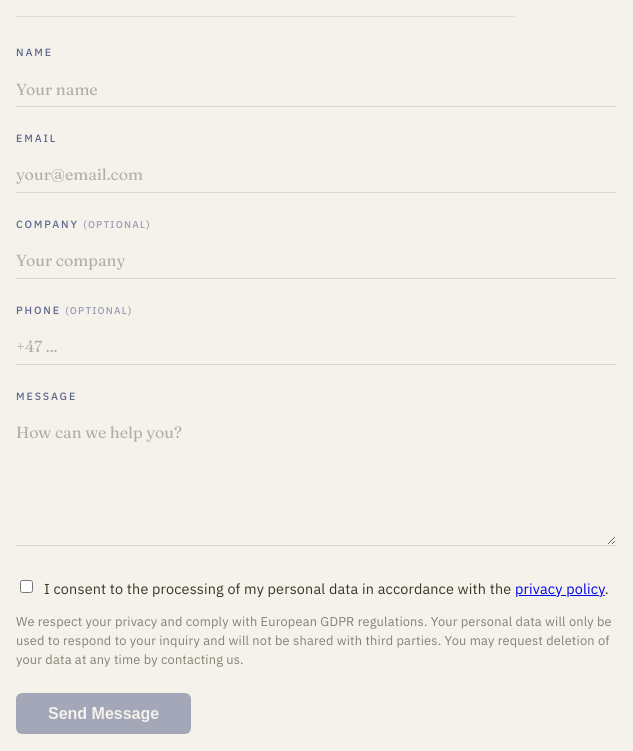
Test: ContactForm component › enables submit button when GDPR checkbox is checked
The width and height of the screenshot is (633, 751).
(page scrolled)
Step 1. Click the checkbox → coordinates (26, 586), box [20, 580, 33, 593]
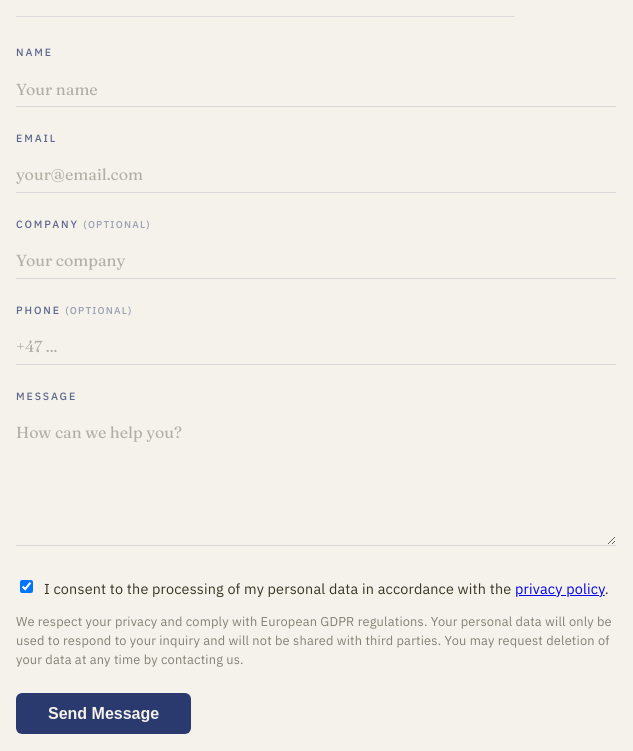
Check: the button "Send Message" is enabled, box [16, 693, 191, 734]
